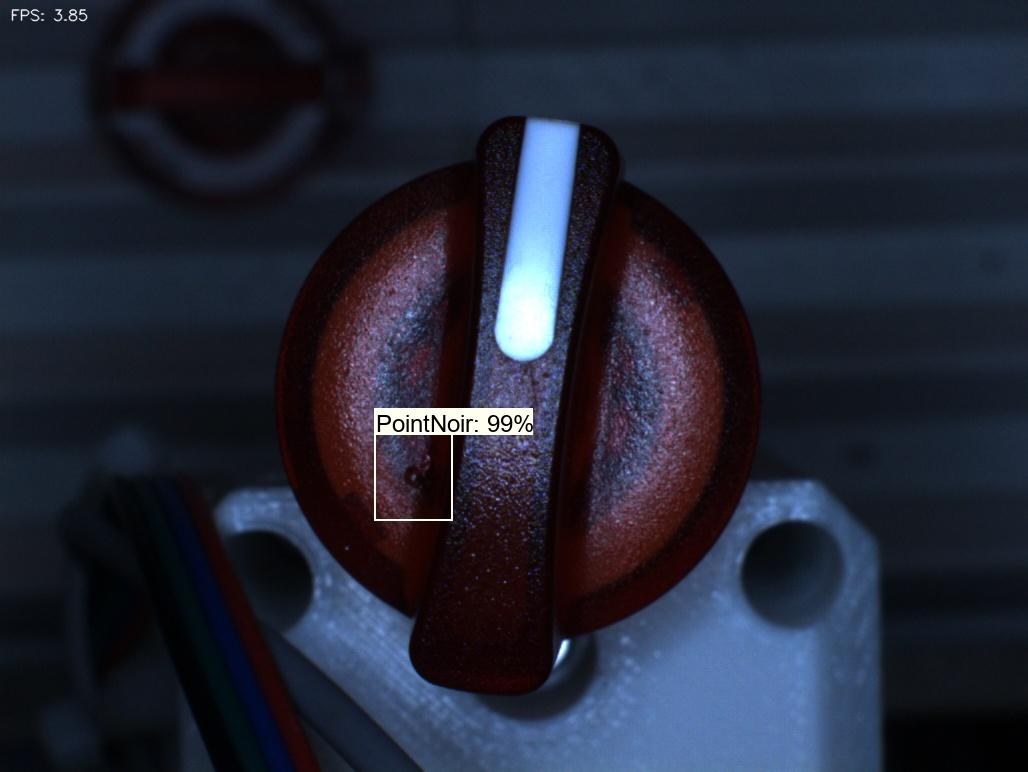Choc: (376, 440, 452, 515)
